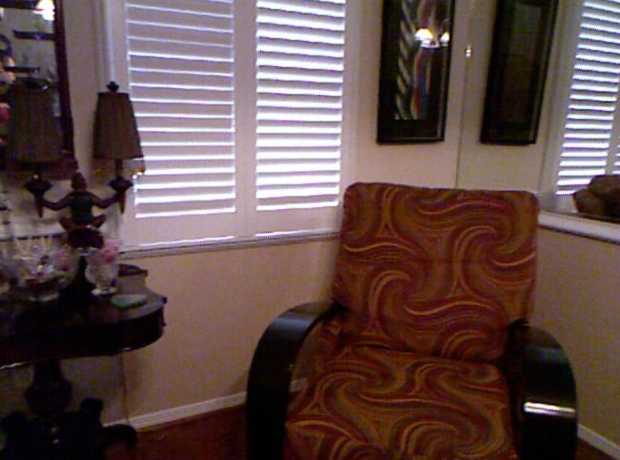couch: (287, 190, 535, 456)
window: (138, 6, 342, 234), (552, 6, 620, 190)
